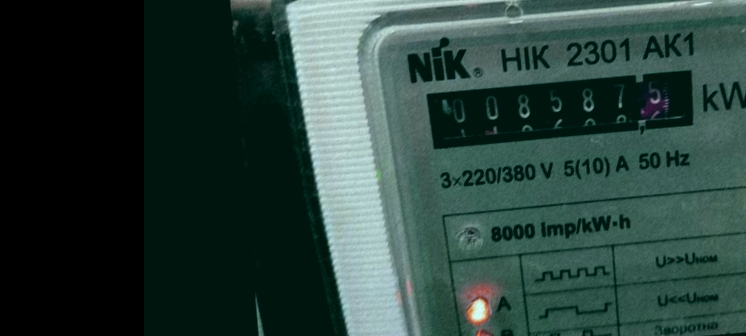0: (448, 95, 468, 125), (482, 93, 501, 122)
5: (645, 78, 665, 108), (546, 86, 565, 116)
7: (610, 80, 629, 111)
8: (578, 84, 597, 115), (514, 91, 532, 120)
screen: (407, 54, 715, 162)
